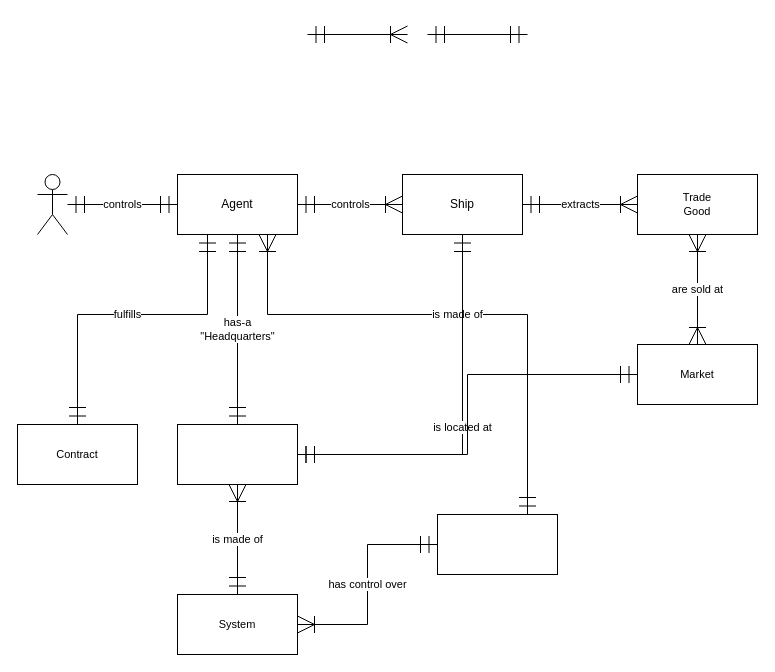
The diagram is 775 pixels wide and 672 high, and some of its shapes have lost their labels. The centre of each missing label's shape, as x and y in pixels:
"Faction" belongs at point (497, 544).
"Player" belongs at point (52, 204).
"Waypoint" belongs at point (237, 454).
